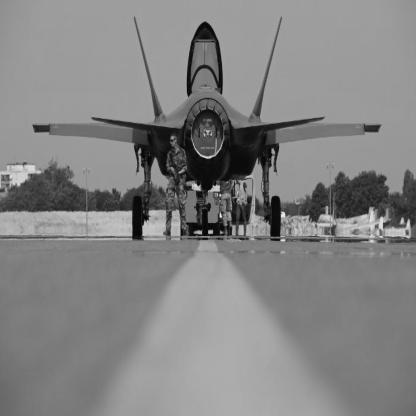F35: (32, 16, 382, 239)
